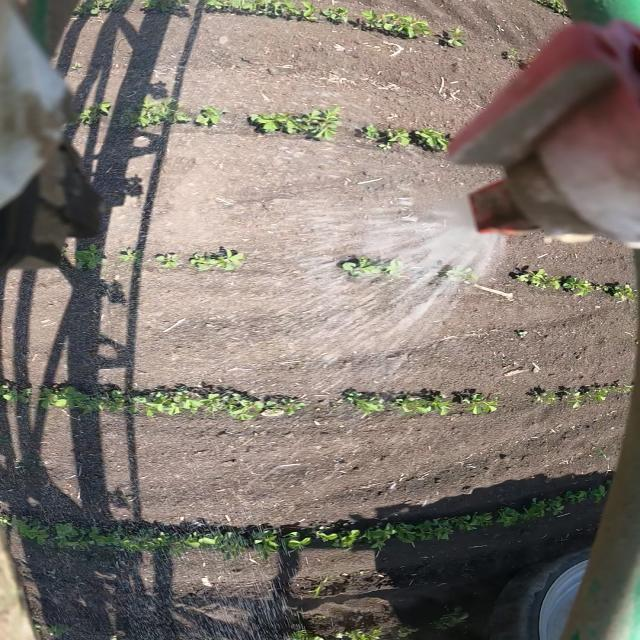plants: (114, 92, 188, 127), (183, 241, 250, 274), (332, 252, 414, 278), (177, 528, 246, 556), (336, 386, 396, 418), (199, 389, 260, 420), (115, 524, 175, 554), (502, 260, 560, 291), (143, 384, 198, 416), (36, 381, 90, 413), (396, 387, 455, 415), (0, 512, 48, 546), (90, 384, 144, 414), (419, 604, 473, 632), (352, 120, 404, 149), (554, 272, 604, 302), (245, 110, 300, 136), (300, 106, 344, 137), (454, 387, 501, 416), (199, 0, 279, 17), (473, 504, 525, 530), (364, 522, 415, 548), (63, 240, 103, 272), (525, 382, 574, 408), (259, 393, 308, 418), (66, 100, 113, 126), (354, 8, 399, 35), (420, 518, 470, 542), (245, 524, 276, 562), (560, 484, 608, 508), (425, 260, 477, 282), (392, 12, 436, 38), (408, 123, 450, 150), (527, 0, 586, 19), (188, 105, 236, 127), (49, 519, 85, 548), (2, 381, 39, 408), (523, 498, 564, 522), (598, 279, 640, 302), (284, 526, 314, 558), (437, 23, 475, 48), (145, 252, 186, 275), (83, 522, 115, 550), (316, 2, 354, 25), (137, 0, 193, 15), (574, 378, 610, 400), (74, 0, 130, 14), (281, 0, 317, 21), (338, 524, 366, 551), (489, 46, 526, 66), (34, 620, 77, 637), (341, 625, 385, 640), (283, 625, 327, 640), (609, 378, 640, 399), (112, 243, 140, 266), (316, 523, 336, 549), (303, 584, 336, 599)
